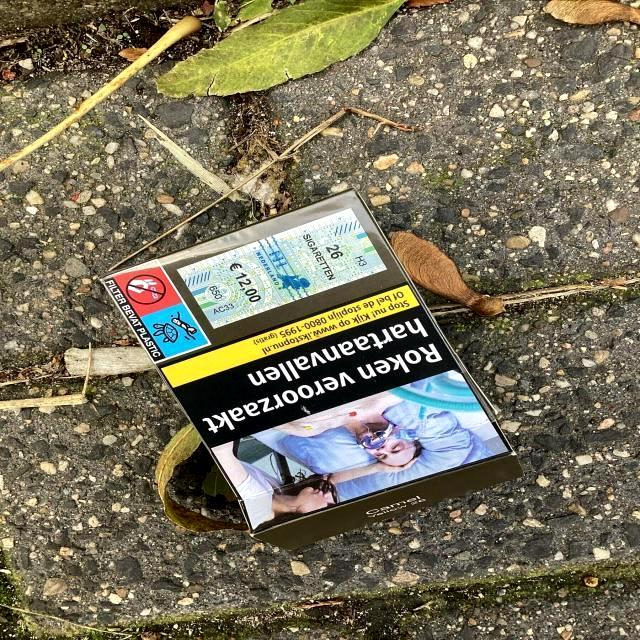Paper: (95, 184, 527, 558)
